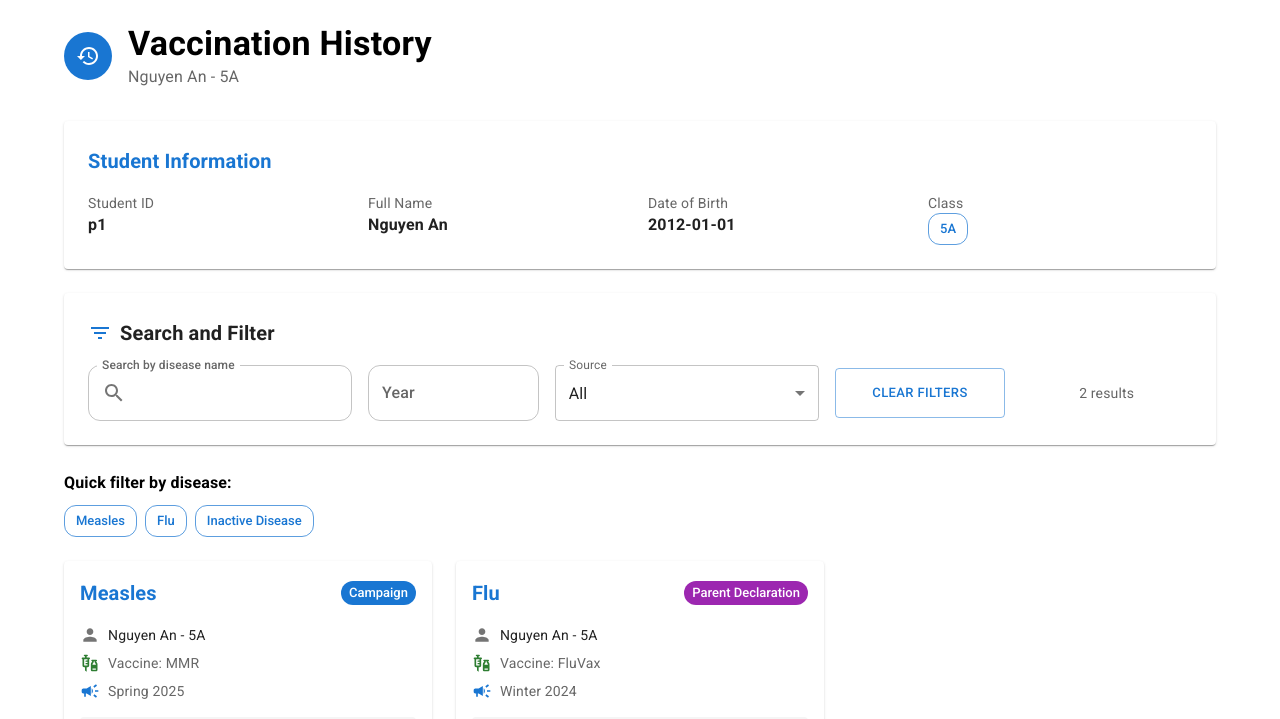
Test case: VaccinationHistoryDisplayer › shows no results found when filter returns empty
Type "Nonexistent" into the field labelled "Search by disease name". click: (243, 393)
box: [134,365,352,421]
(page scrolled)
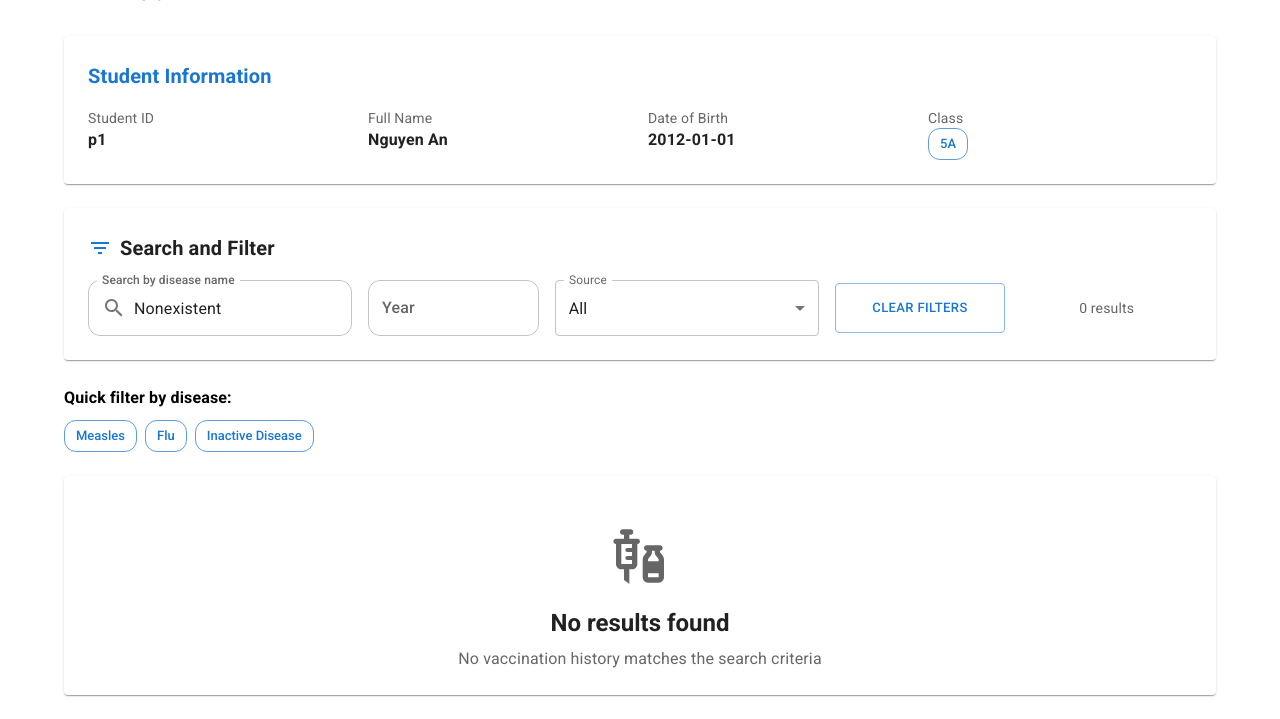
Now the heading "No results found" is shown, box [550,609,730,637]
